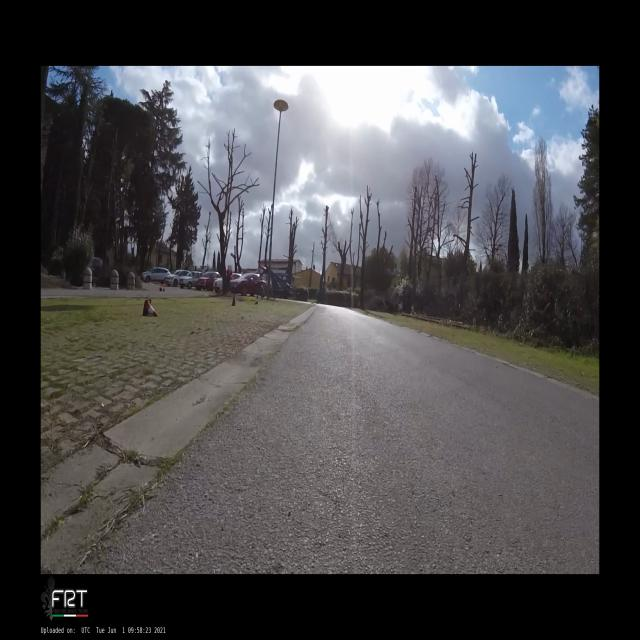orange_cone: (142, 299, 158, 317), (255, 294, 258, 304)
unknown_cone: (231, 294, 236, 306)
